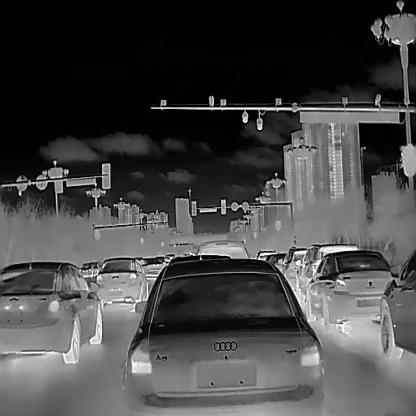car: (120, 256, 327, 414), (0, 258, 103, 364), (305, 248, 398, 331), (378, 244, 415, 359), (295, 242, 360, 306), (92, 254, 150, 307), (280, 244, 315, 291), (195, 239, 250, 266), (134, 255, 164, 280), (78, 261, 98, 276), (266, 253, 286, 267), (255, 248, 276, 260)
